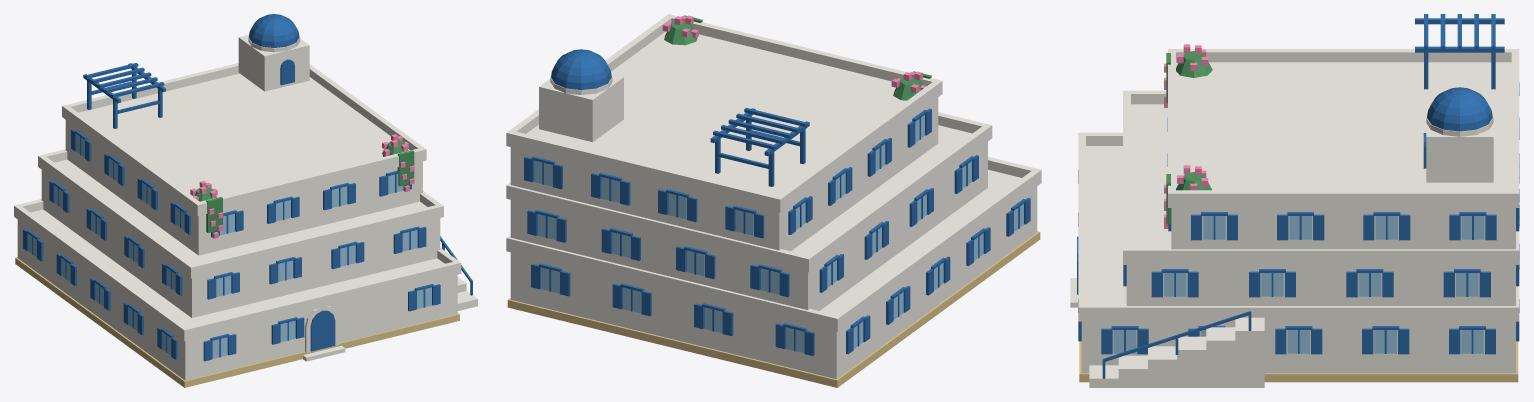
File: house-2x2-3f-aegean-a.glb
3 renders of one model, left to right at view 1: azimuth 30°, elevation 25°; view 2: azimuth 150°, elevation 25°; view 3: azimuth 270°, elevation 25°, orthographic. The views are drawn at different scales.
Visible parts, largest first — view 1: house-2x2-3f-aegean-a; view 2: house-2x2-3f-aegean-a; view 3: house-2x2-3f-aegean-a.
Part boxes in pixels (x1,y1,x2,y2): house-2x2-3f-aegean-a: [14, 14, 477, 387]; house-2x2-3f-aegean-a: [506, 14, 1041, 387]; house-2x2-3f-aegean-a: [1070, 14, 1519, 387].
Bounding box in the file's own units: 1.99 × 1.31 × 2.
Materials: 1 (1 with a texture image).
